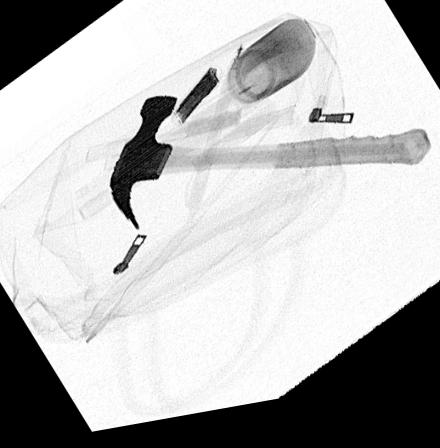Hammer: (109, 100, 433, 235)
